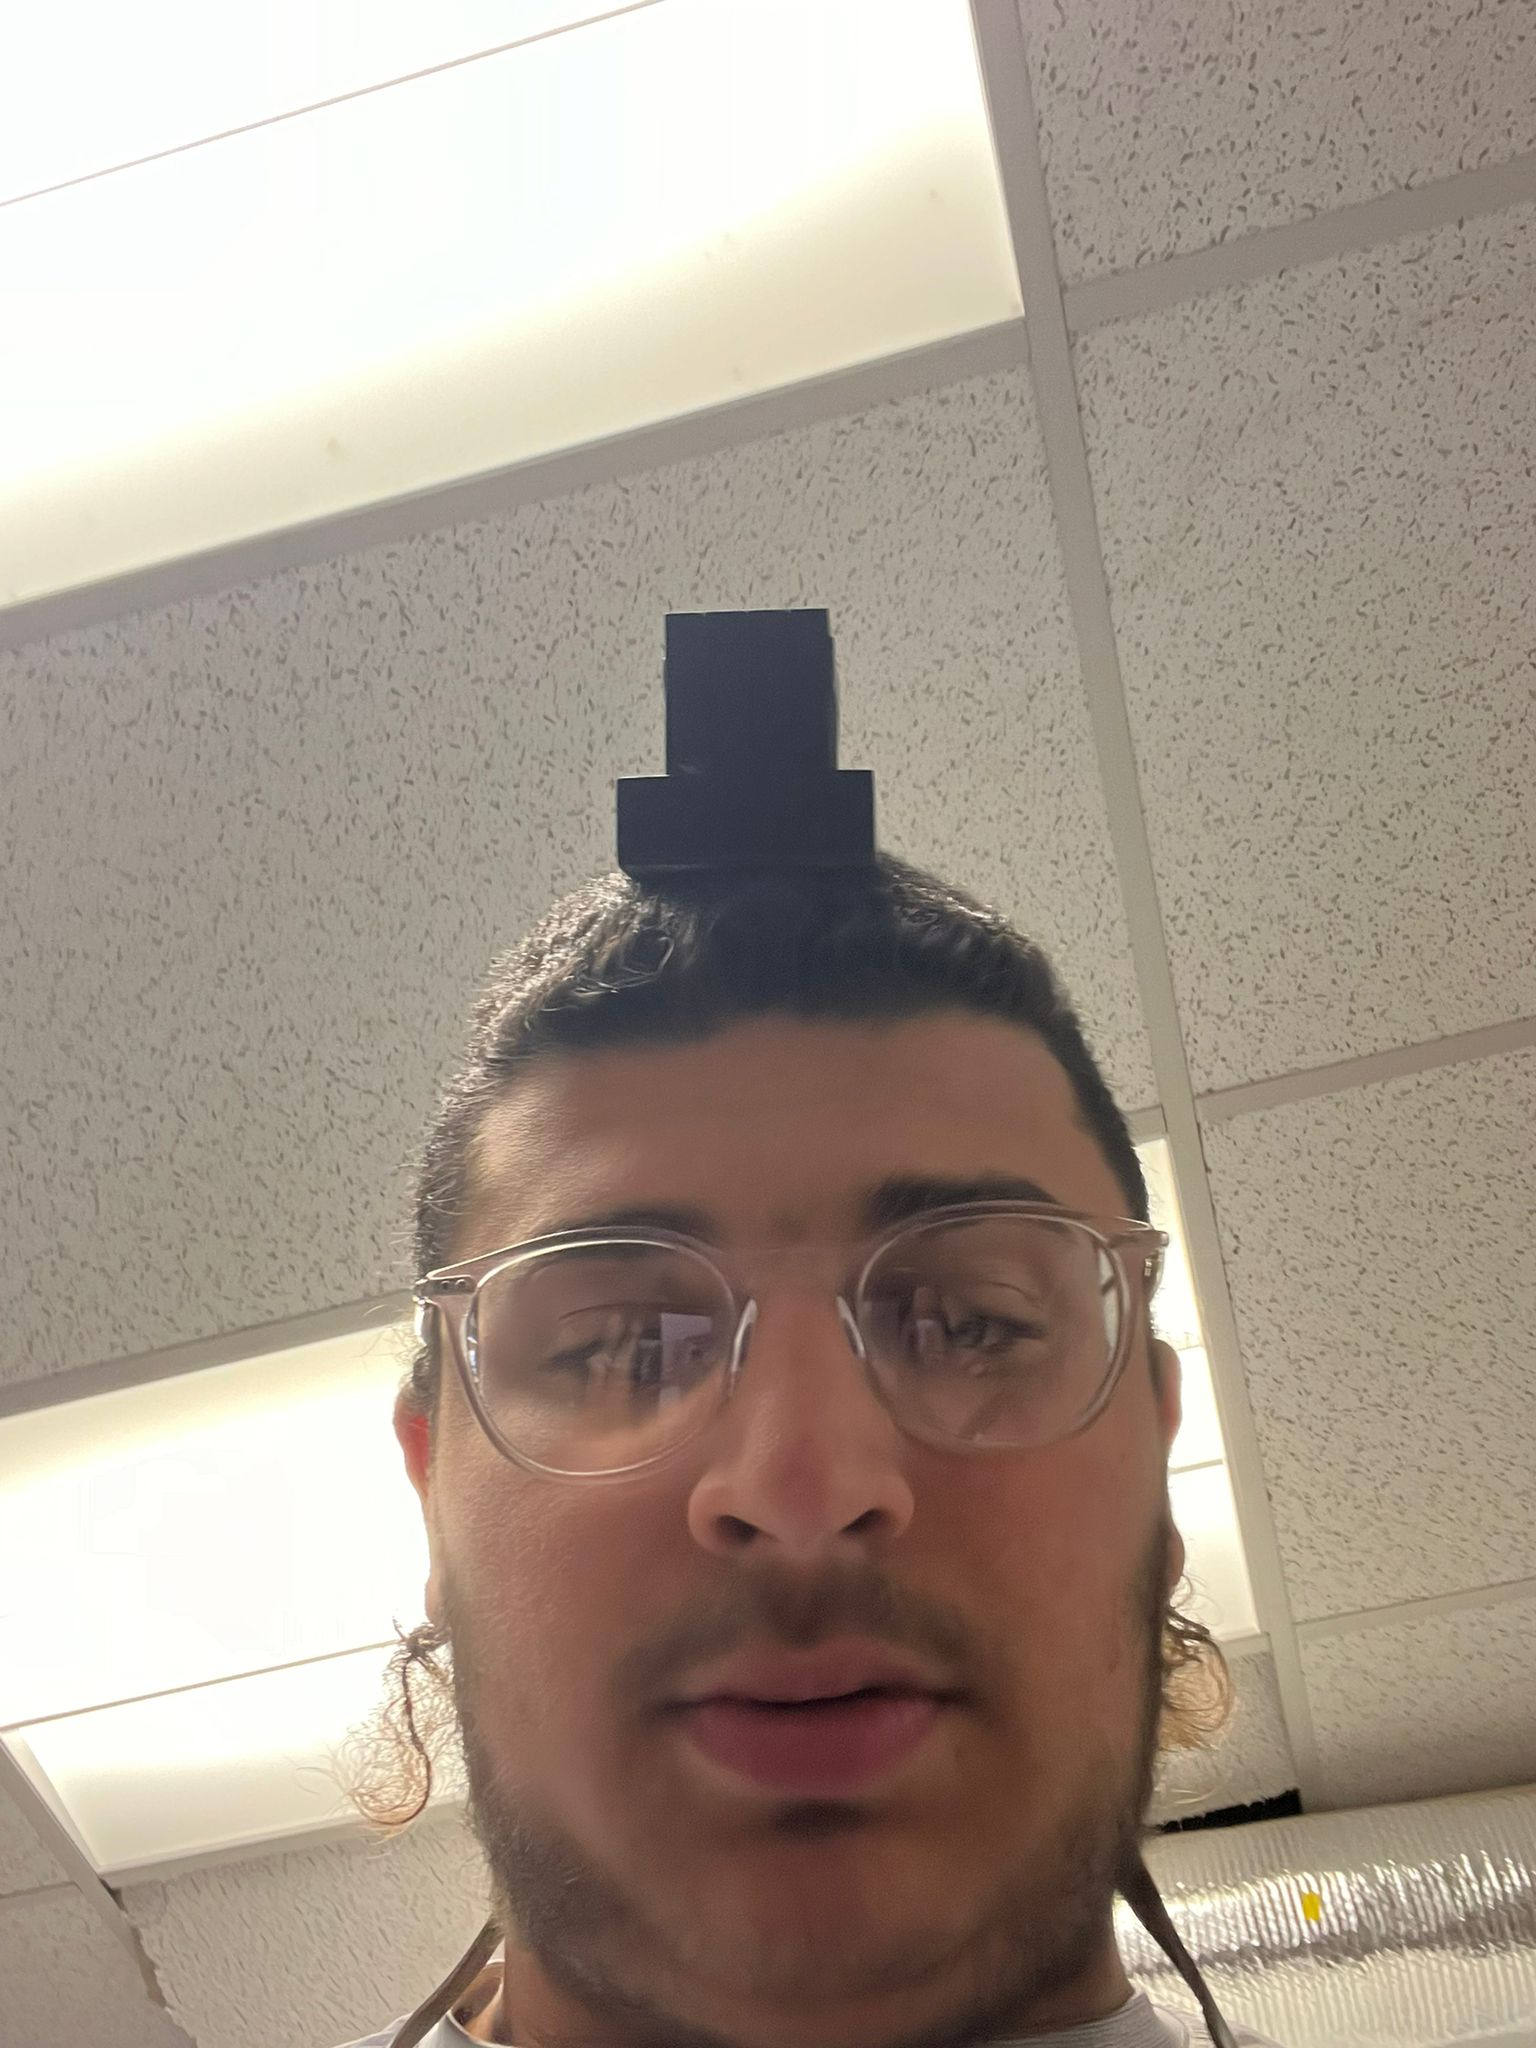tefillin: (618, 603, 884, 869)
